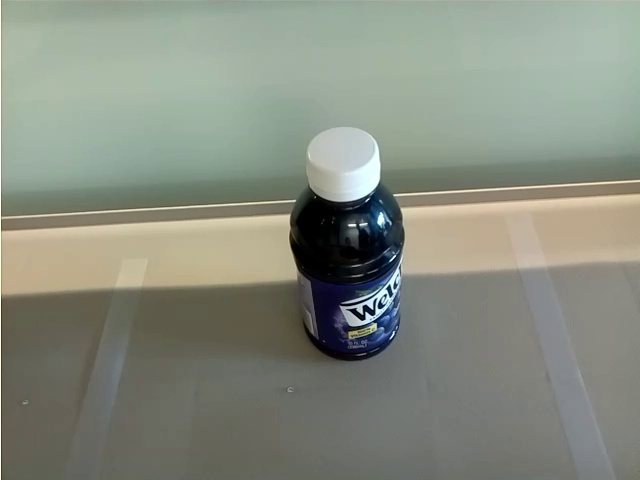juice: (289, 123, 406, 364)
